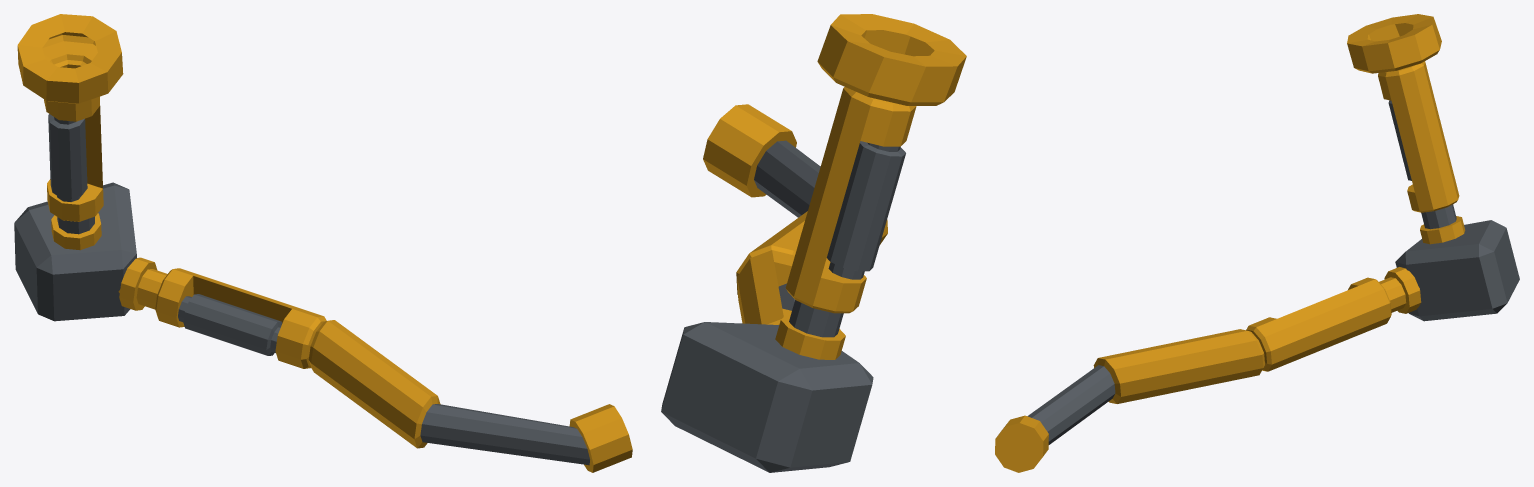
Rendered from Fighter_03_Pipes_06_Yellow.fbx.
3 views of the same model, side by side, from view 1: azimuth 30°, elevation 25°; view 2: azimuth 150°, elevation 25°; view 3: azimuth 270°, elevation 25° (orthographic). The views are drawn at different scales.
Parts seen in each view (by area): view 1: Fighter_03_Pipes_06_Yellow; view 2: Fighter_03_Pipes_06_Yellow; view 3: Fighter_03_Pipes_06_Yellow.
Boxes of the visible parts, x1,y1,x2,y2 form: Fighter_03_Pipes_06_Yellow: [14, 14, 632, 472]; Fighter_03_Pipes_06_Yellow: [661, 14, 966, 472]; Fighter_03_Pipes_06_Yellow: [995, 14, 1519, 472].
Size of the model in its own units: 155 by 135 by 205.
1 material, 1 textured.
